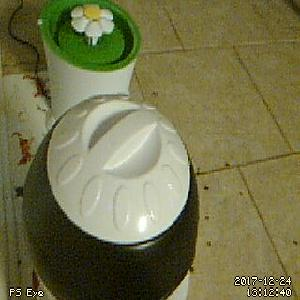fountain: (35, 1, 141, 72)
